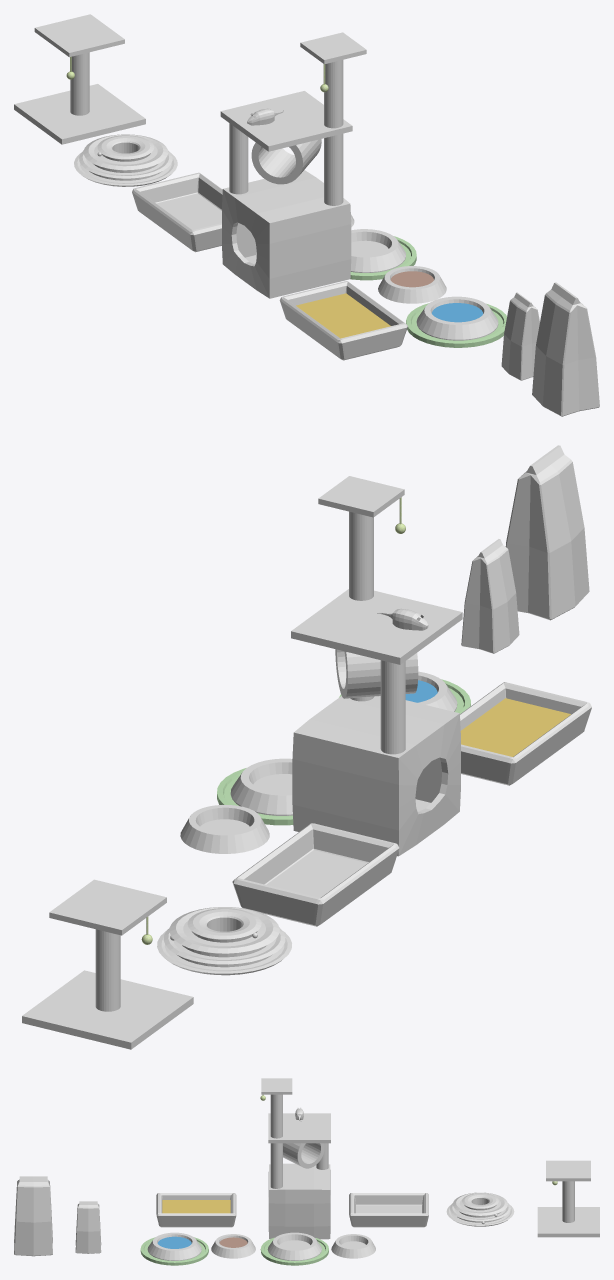
Rendered from itens_gato.fbx.
The picture shows the model from 3 angles, top to bottom: view 1: azimuth 30°, elevation 25°; view 2: azimuth 150°, elevation 25°; view 3: azimuth 270°, elevation 25°; orthographic projection. The views are drawn at different scales.
Parts seen in each view (by area): view 1: arranhador 1, arranhador 2, ração grande, caixinha de areia cheia, caixinha de areia vazia, brinquedo gato, pote de agua cheio, pote de agua, ração pequena, pote de comida cheio; view 2: arranhador 1, arranhador 2, ração grande, caixinha de areia vazia, caixinha de areia cheia, brinquedo gato, ração pequena, pote de agua, pote de comida, pote de agua cheio; view 3: arranhador 1, arranhador 2, ração grande, caixinha de areia cheia, caixinha de areia vazia, brinquedo gato, pote de agua cheio, pote de agua, ração pequena, pote de comida, pote de comida cheio.
Part boxes in pixels (x1=…): arranhador 1: x1=220, y1=32, x2=366, y2=298; arranhador 2: x1=14, y1=14, x2=145, y2=144; ração grande: x1=532, y1=282, x2=599, y2=416; caixinha de areia cheia: x1=279, y1=281, x2=407, y2=360; caixinha de areia vazia: x1=132, y1=172, x2=222, y2=252; brinquedo gato: x1=74, y1=134, x2=177, y2=186; pote de agua cheio: x1=406, y1=296, x2=506, y2=347; pote de agua: x1=350, y1=229, x2=416, y2=280; ração pequena: x1=501, y1=292, x2=539, y2=380; pote de comida cheio: x1=378, y1=266, x2=446, y2=303; arranhador 1: x1=291, y1=476, x2=462, y2=856; arranhador 2: x1=22, y1=879, x2=193, y2=1049; ração grande: x1=505, y1=445, x2=589, y2=620; caixinha de areia vazia: x1=232, y1=823, x2=399, y2=926; caixinha de areia cheia: x1=460, y1=682, x2=591, y2=785; brinquedo gato: x1=157, y1=907, x2=291, y2=975; ração pequena: x1=461, y1=539, x2=519, y2=653; pote de agua: x1=217, y1=758, x2=293, y2=825; pote de comida: x1=180, y1=805, x2=269, y2=853; pote de agua cheio: x1=339, y1=671, x2=470, y2=713; arranhador 1: x1=260, y1=1078, x2=330, y2=1239; arranhador 2: x1=537, y1=1160, x2=599, y2=1237; ração grande: x1=14, y1=1176, x2=52, y2=1256; caixinha de areia cheia: x1=156, y1=1193, x2=236, y2=1227; caixinha de areia vazia: x1=349, y1=1193, x2=428, y2=1227; brinquedo gato: x1=446, y1=1192, x2=514, y2=1226; pote de agua cheio: x1=140, y1=1232, x2=208, y2=1265; pote de agua: x1=260, y1=1232, x2=328, y2=1265; ração pequena: x1=75, y1=1201, x2=101, y2=1253; pote de comida: x1=331, y1=1234, x2=375, y2=1258; pote de comida cheio: x1=211, y1=1234, x2=255, y2=1258.
Size of the model in its own units: 1081 by 1295 by 4523.
